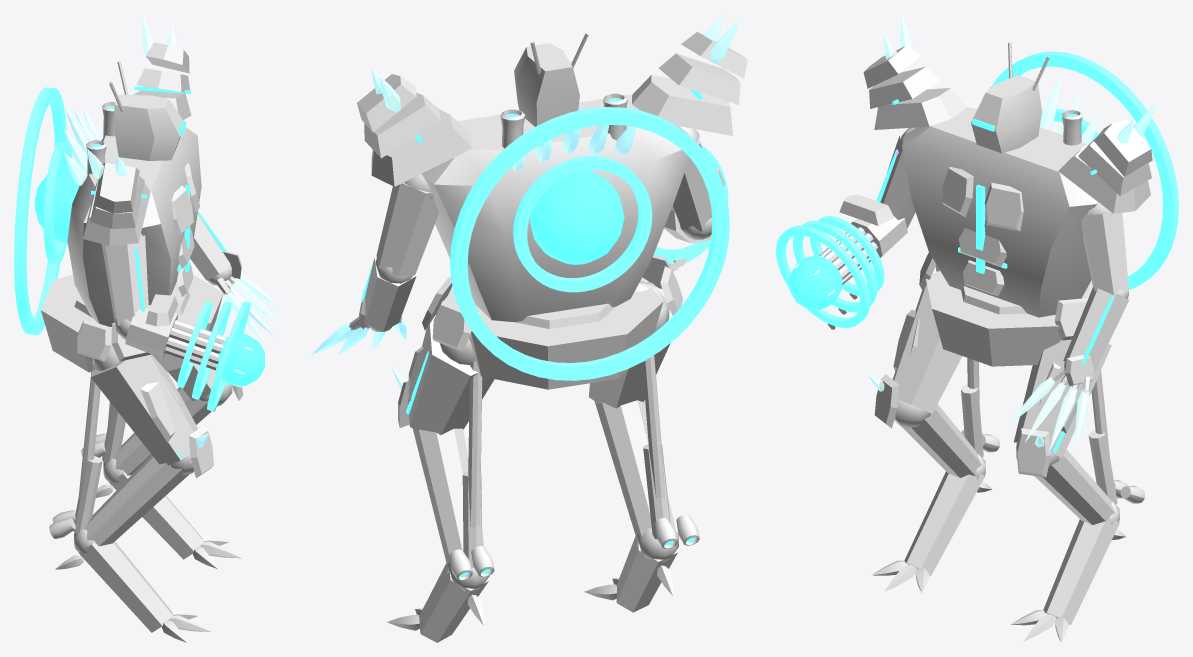
Rendered from juggernaut.glb.
The picture shows the model from 3 angles, left to right: view 1: azimuth 30°, elevation 25°; view 2: azimuth 150°, elevation 25°; view 3: azimuth 270°, elevation 25°; orthographic projection. The views are drawn at different scales.
Visible parts, largest first — view 1: ju3__ju_blind, ju3__ju_blind2, ju3__ju_struct, ju3__ju_anneau, ju3__ju_canon, ju3__ju_cristal, ju3__ju_halo, ju3__ju_os, ju3__ju_conduit, ju3__ju_conduit_turq; view 2: ju3__ju_blind, ju3__ju_blind2, ju3__ju_anneau, ju3__ju_struct, ju3__ju_canon, ju3__ju_halo, ju3__ju_cristal, ju3__ju_conduit_turq, ju3__ju_os; view 3: ju3__ju_blind, ju3__ju_blind2, ju3__ju_struct, ju3__ju_anneau, ju3__ju_cristal, ju3__ju_canon, ju3__ju_halo, ju3__ju_os, ju3__ju_conduit.
Boxes of the visible parts, bbox=[...] form: ju3__ju_blind: bbox=[67, 42, 243, 632]; ju3__ju_blind2: bbox=[41, 68, 230, 442]; ju3__ju_struct: bbox=[73, 61, 235, 553]; ju3__ju_anneau: bbox=[15, 87, 250, 411]; ju3__ju_canon: bbox=[49, 102, 226, 538]; ju3__ju_cristal: bbox=[63, 14, 281, 447]; ju3__ju_halo: bbox=[34, 164, 264, 386]; ju3__ju_os: bbox=[55, 484, 241, 642]; ju3__ju_conduit: bbox=[91, 86, 226, 457]; ju3__ju_conduit_turq: bbox=[14, 101, 181, 318]; ju3__ju_blind: bbox=[357, 32, 747, 642]; ju3__ju_blind2: bbox=[364, 43, 740, 401]; ju3__ju_anneau: bbox=[450, 107, 729, 380]; ju3__ju_struct: bbox=[349, 32, 712, 591]; ju3__ju_canon: bbox=[449, 93, 711, 580]; ju3__ju_halo: bbox=[530, 170, 624, 264]; ju3__ju_cristal: bbox=[312, 14, 739, 389]; ju3__ju_conduit_turq: bbox=[459, 98, 723, 577]; ju3__ju_os: bbox=[387, 565, 673, 630]; ju3__ju_blind: bbox=[863, 46, 1152, 624]; ju3__ju_blind2: bbox=[839, 66, 1151, 433]; ju3__ju_struct: bbox=[828, 42, 1128, 525]; ju3__ju_anneau: bbox=[776, 51, 1178, 327]; ju3__ju_cristal: bbox=[788, 14, 1155, 451]; ju3__ju_canon: bbox=[818, 87, 1144, 503]; ju3__ju_halo: bbox=[789, 133, 1058, 310]; ju3__ju_os: bbox=[871, 481, 1126, 642]; ju3__ju_conduit: bbox=[876, 99, 1114, 453].
Bounding box in the file's own units: 23.14 × 37.17 × 25.46.
